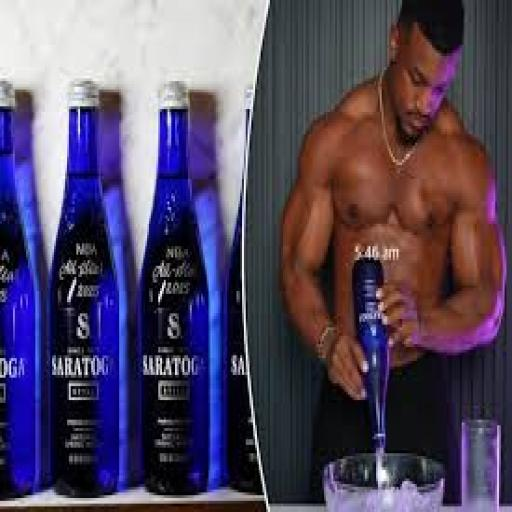blue-bottle: (140, 106, 207, 492), (352, 257, 387, 448)
